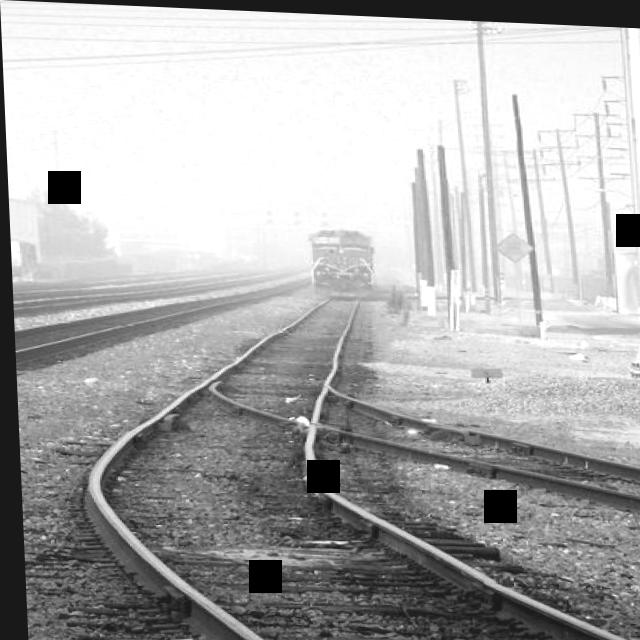locomotive: (299, 219, 383, 303)
